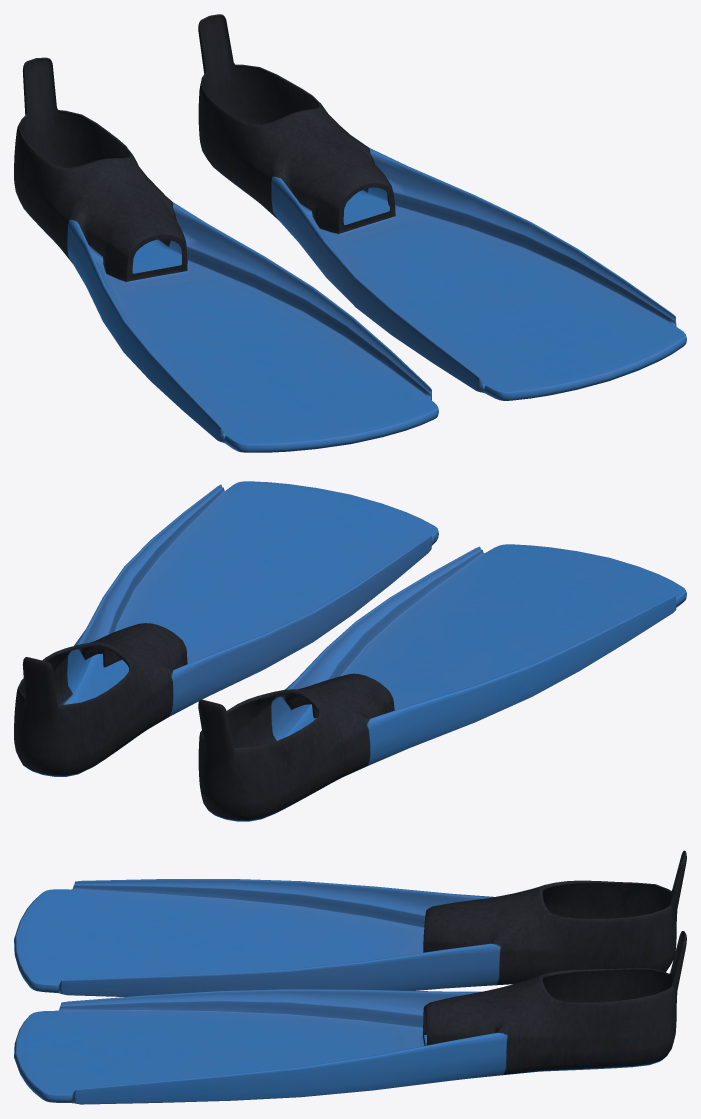
The model's file is Flippers.glb.
3 views of the same model, one above another, from view 1: azimuth 30°, elevation 25°; view 2: azimuth 150°, elevation 25°; view 3: azimuth 270°, elevation 25° (orthographic). The views are drawn at different scales.
Parts seen in each view (by area): view 1: Flippers; view 2: Flippers; view 3: Flippers.
Boxes of the visible parts, x1=… form: Flippers: x1=14, y1=14, x2=686, y2=452; Flippers: x1=14, y1=481, x2=686, y2=821; Flippers: x1=14, y1=850, x2=686, y2=1104.
Bounding box in the file's own units: 1.47 × 0.3901 × 2.
1 material, 1 textured.
